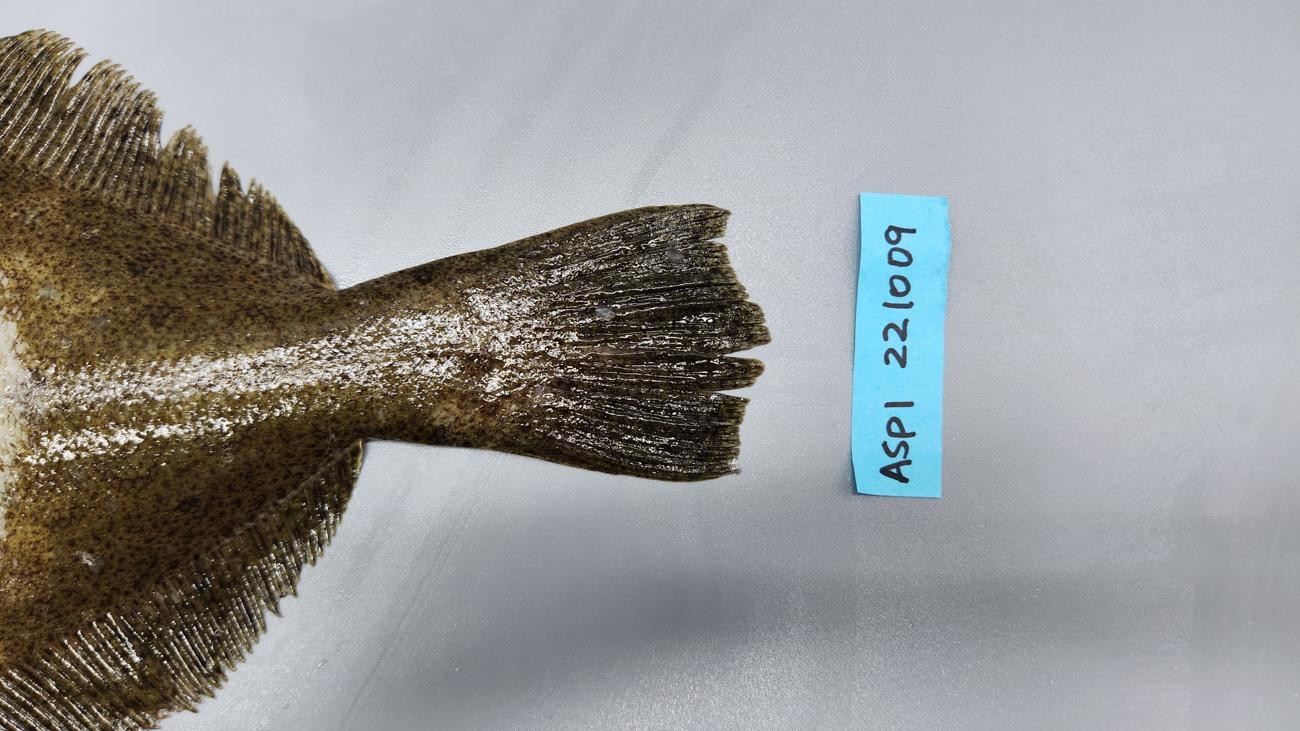SPFAH: (124, 440, 359, 638)
SPFDH: (212, 159, 327, 289)
